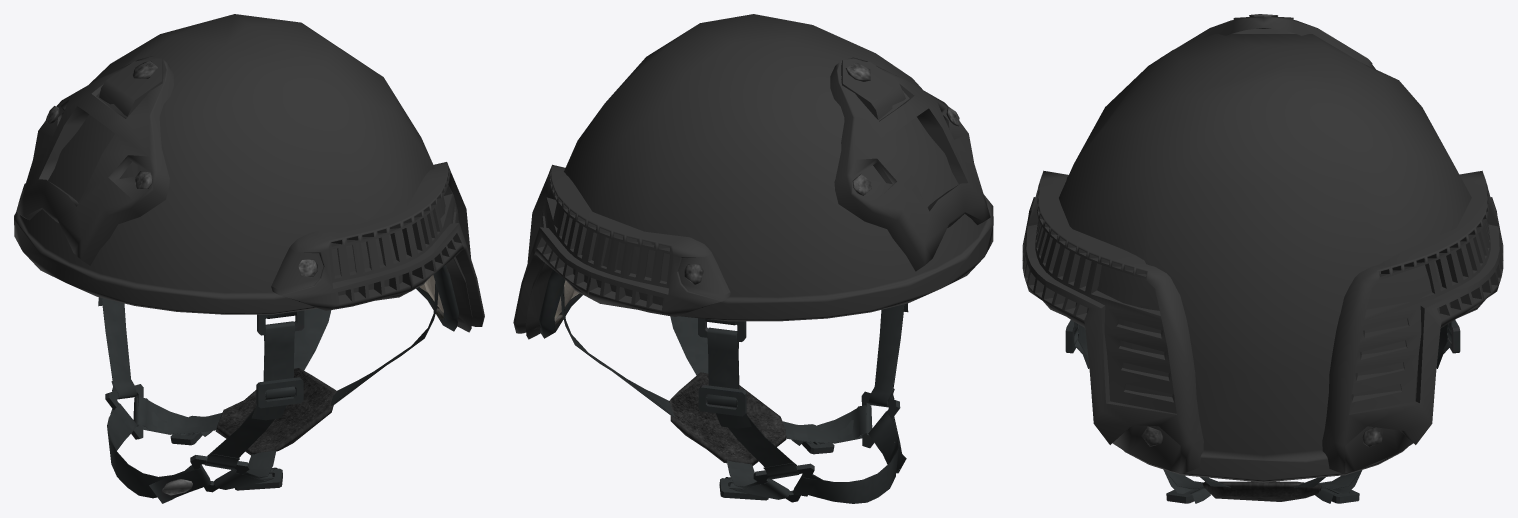
Rendered from helmet2.glb.
3 views of the same model, side by side, from view 1: azimuth 30°, elevation 25°; view 2: azimuth 150°, elevation 25°; view 3: azimuth 270°, elevation 25° (orthographic). The views are drawn at different scales.
Parts seen in each view (by area): view 1: prop; view 2: prop; view 3: prop.
Part boxes in pixels (x1,y1,x2,y2): prop: (14,14,484,503); prop: (513,14,993,503); prop: (1022,14,1503,503).
Bounding box in the file's own units: 8.11 × 8.26 × 7.93.
Materials: 1 (1 with a texture image).
